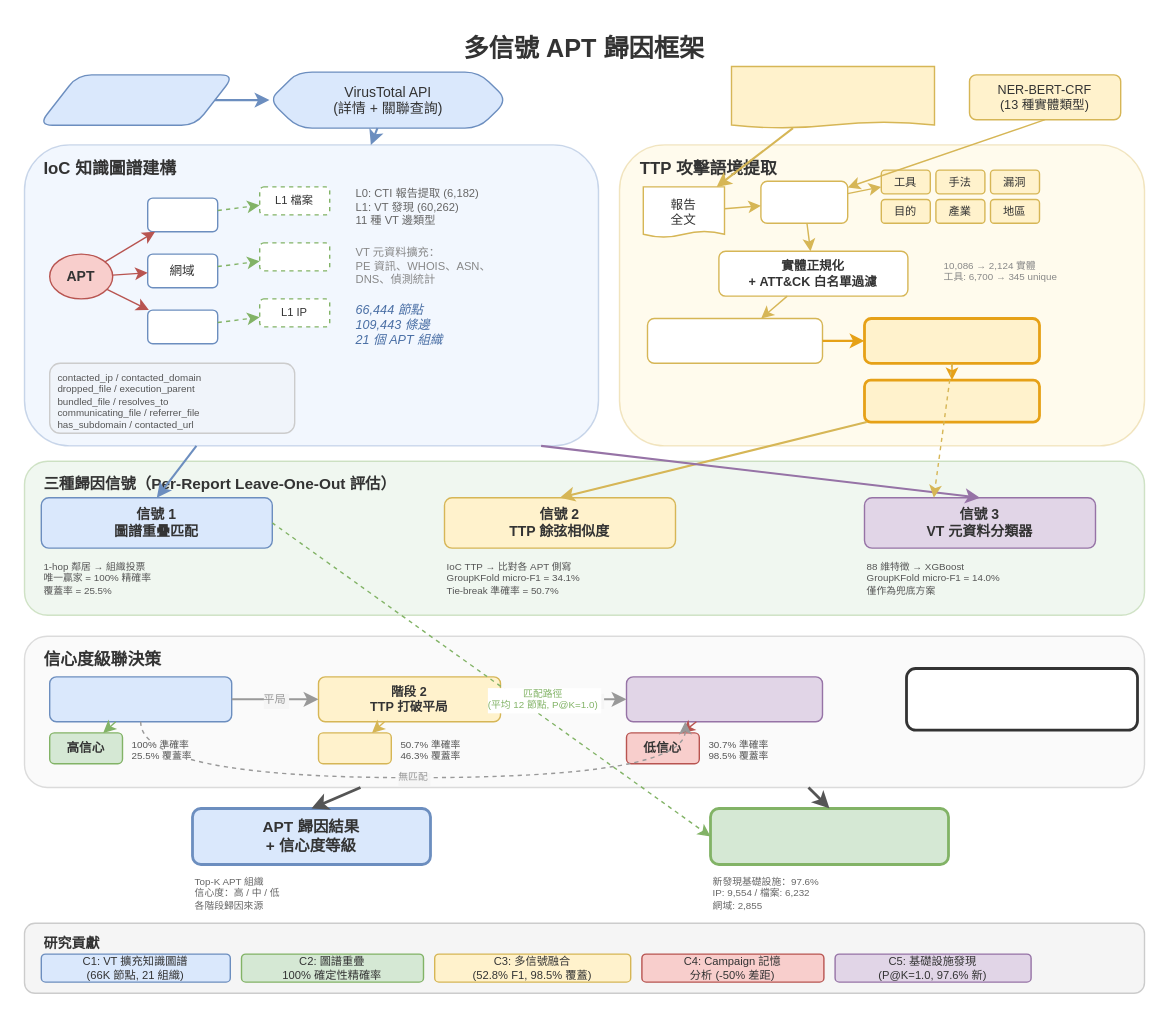
Some shapes in this 1169 by 1018 pixel diagram are drawn without their labels. Each missing label, with the centre of its shape:
"CTI 威脅情報報告 (207 份, 17 個組織)" belongs at (832,96).
"IoC → 報告 → TTP 映射 (6,054 IoCs)" belongs at (734,340).
"IP" belongs at (182,326).
"L1 網域" belongs at (294,256).
"NER 推論" belongs at (804,201).
"TF-IDF 特徵 (L5: 1,538 維稀疏)" belongs at (951,340).
"中信心" belongs at (354,748).
"入侵指標 (IoCs) hash / ip / domain" belongs at (135,99).
"各 APT 組織 TTP 側寫 (TF-IDF)" belongs at (951,400).
"整體：micro-F1 = 52.8% macro-F1 = 63.5% 覆蓋率 = 98.5%" belongs at (1021,698).
"檔案" belongs at (182,214).
"關聯攻擊 基礎設施" belongs at (828,835).
"階段 1 圖譜唯一贏家" belongs at (140,699).
"階段 3 ML 分類器 (L1+L5)" belongs at (723,699).
